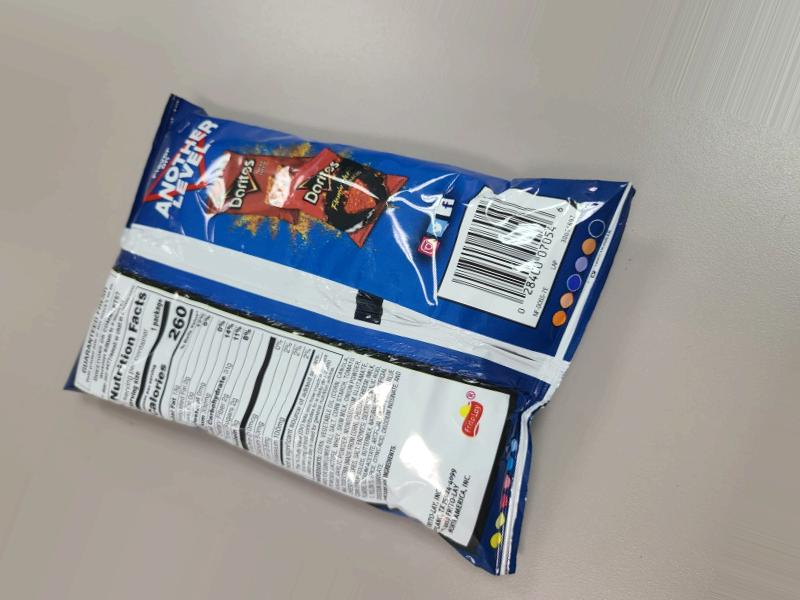doritos: (80, 132, 603, 600)
